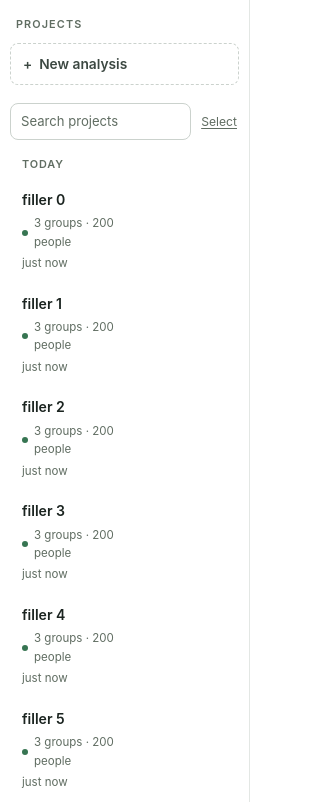
Scenario: the projects list › filters by name, and says so when nothing matches
Type "nordic" into the search field labelled "Search projects".
click(101, 122); type("nordic")  # box [10,103,191,140]
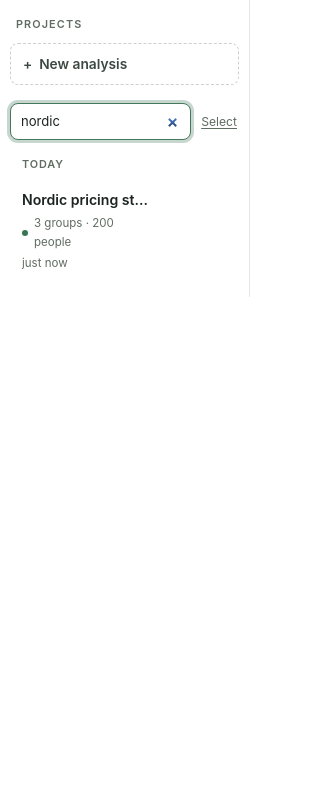
Expected: the text "Nordic pricing study" is shown, [22,189,151,211]
Expected: the button "filler 0" is gone
Replace the text in the search field named "Search projects" with "zzz" at (101, 122), box [10,103,191,140]
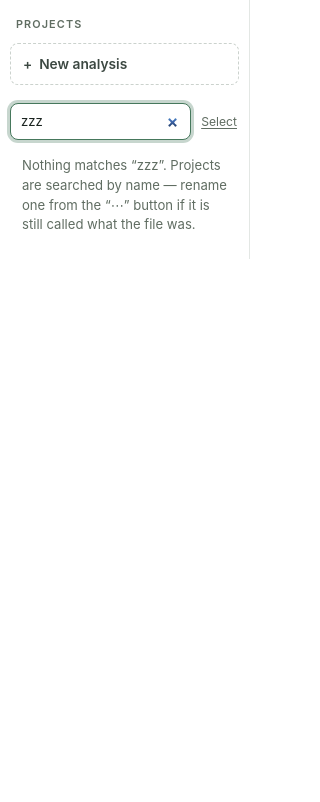
Expected: the text "Nothing matches" is shown, [22,157,137,173]
